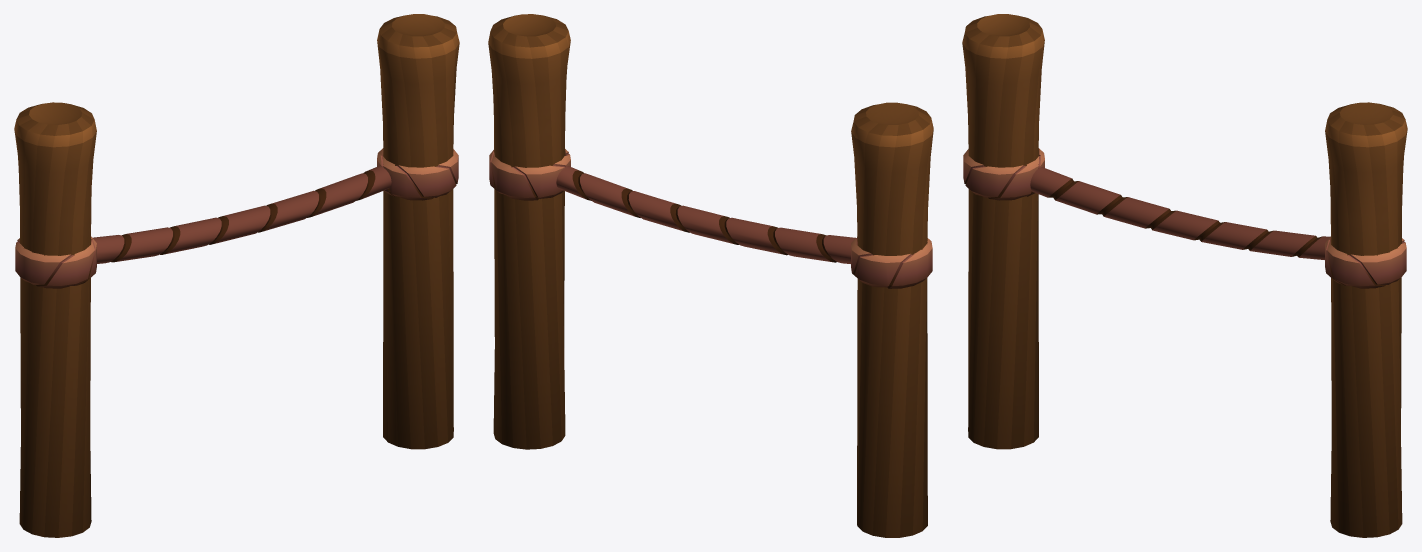
The model's file is Deco-2-4.fbx.
3 views of the same model, side by side, from view 1: azimuth 30°, elevation 25°; view 2: azimuth 150°, elevation 25°; view 3: azimuth 330°, elevation 25° (orthographic).
Parts seen in each view (by area): view 1: Deco-2-4; view 2: Deco-2-4; view 3: Deco-2-4.
Part boxes in pixels (x1,y1,x2,y2): Deco-2-4: (14, 14, 459, 537); Deco-2-4: (488, 14, 933, 537); Deco-2-4: (962, 14, 1407, 537).
Bounding box in the file's own units: 203 × 183 × 33.45.
